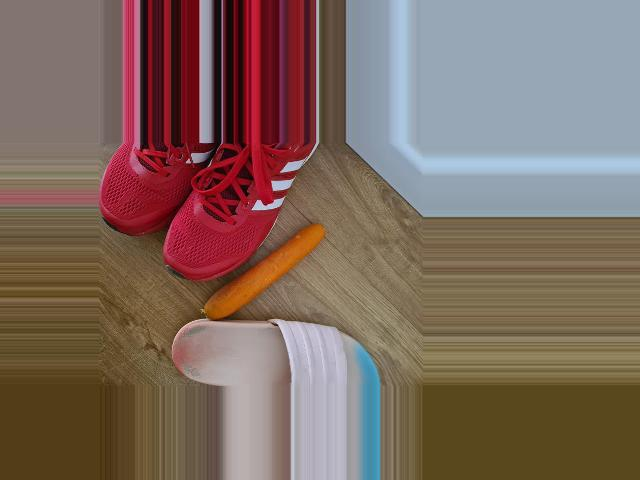carrot: (203, 221, 324, 319)
